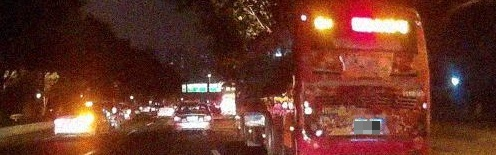L_light: (300, 80, 313, 120), (54, 119, 63, 125), (173, 116, 182, 122)
R_light: (419, 83, 430, 121), (203, 115, 212, 122), (85, 116, 94, 122)
T_light: (352, 44, 382, 51), (189, 102, 197, 104), (72, 102, 79, 104)
night-no: (294, 0, 433, 155), (172, 101, 213, 134)
night-right: (54, 101, 97, 137)
plate_1: (354, 121, 380, 134)
